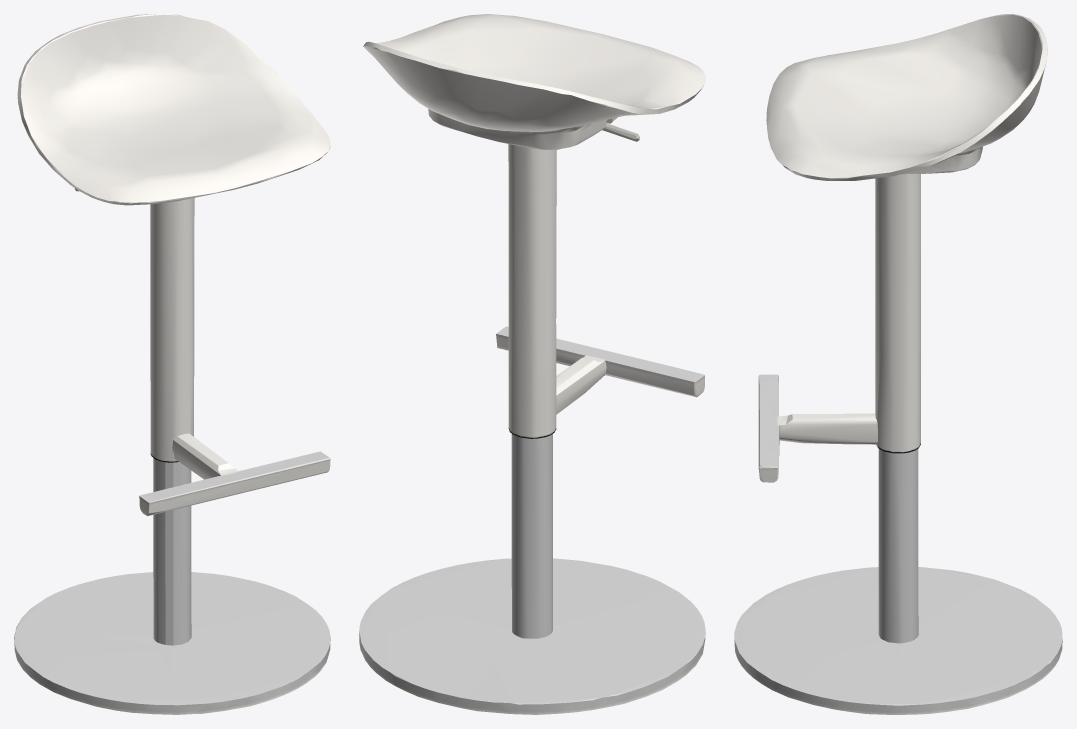
Rendered from 15 - JANINGE - 吧台椅, 白色, 76 公分 IKEA 線上購物.glb.
3 renders of one model, left to right at view 1: azimuth 30°, elevation 25°; view 2: azimuth 150°, elevation 25°; view 3: azimuth 270°, elevation 25°, orthographic. The views are drawn at different scales.
Visible parts, largest first — view 1: ProcessedMeshNode; view 2: ProcessedMeshNode; view 3: ProcessedMeshNode.
Boxes of the visible parts, x1=… form: ProcessedMeshNode: x1=14, y1=14, x2=330, y2=714; ProcessedMeshNode: x1=359, y1=14, x2=705, y2=714; ProcessedMeshNode: x1=734, y1=14, x2=1062, y2=714.
Size of the model in its own units: 0.4197 by 0.8433 by 0.4198.
Materials: 1 (1 with a texture image).
